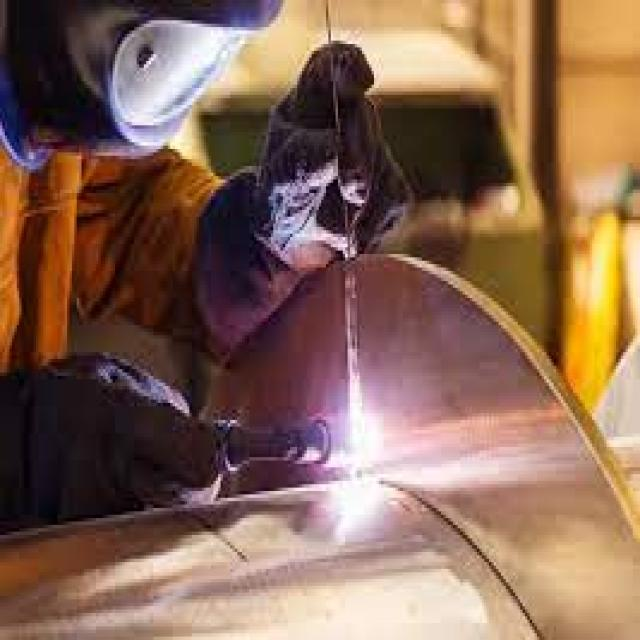welding: (346, 406, 380, 488)
